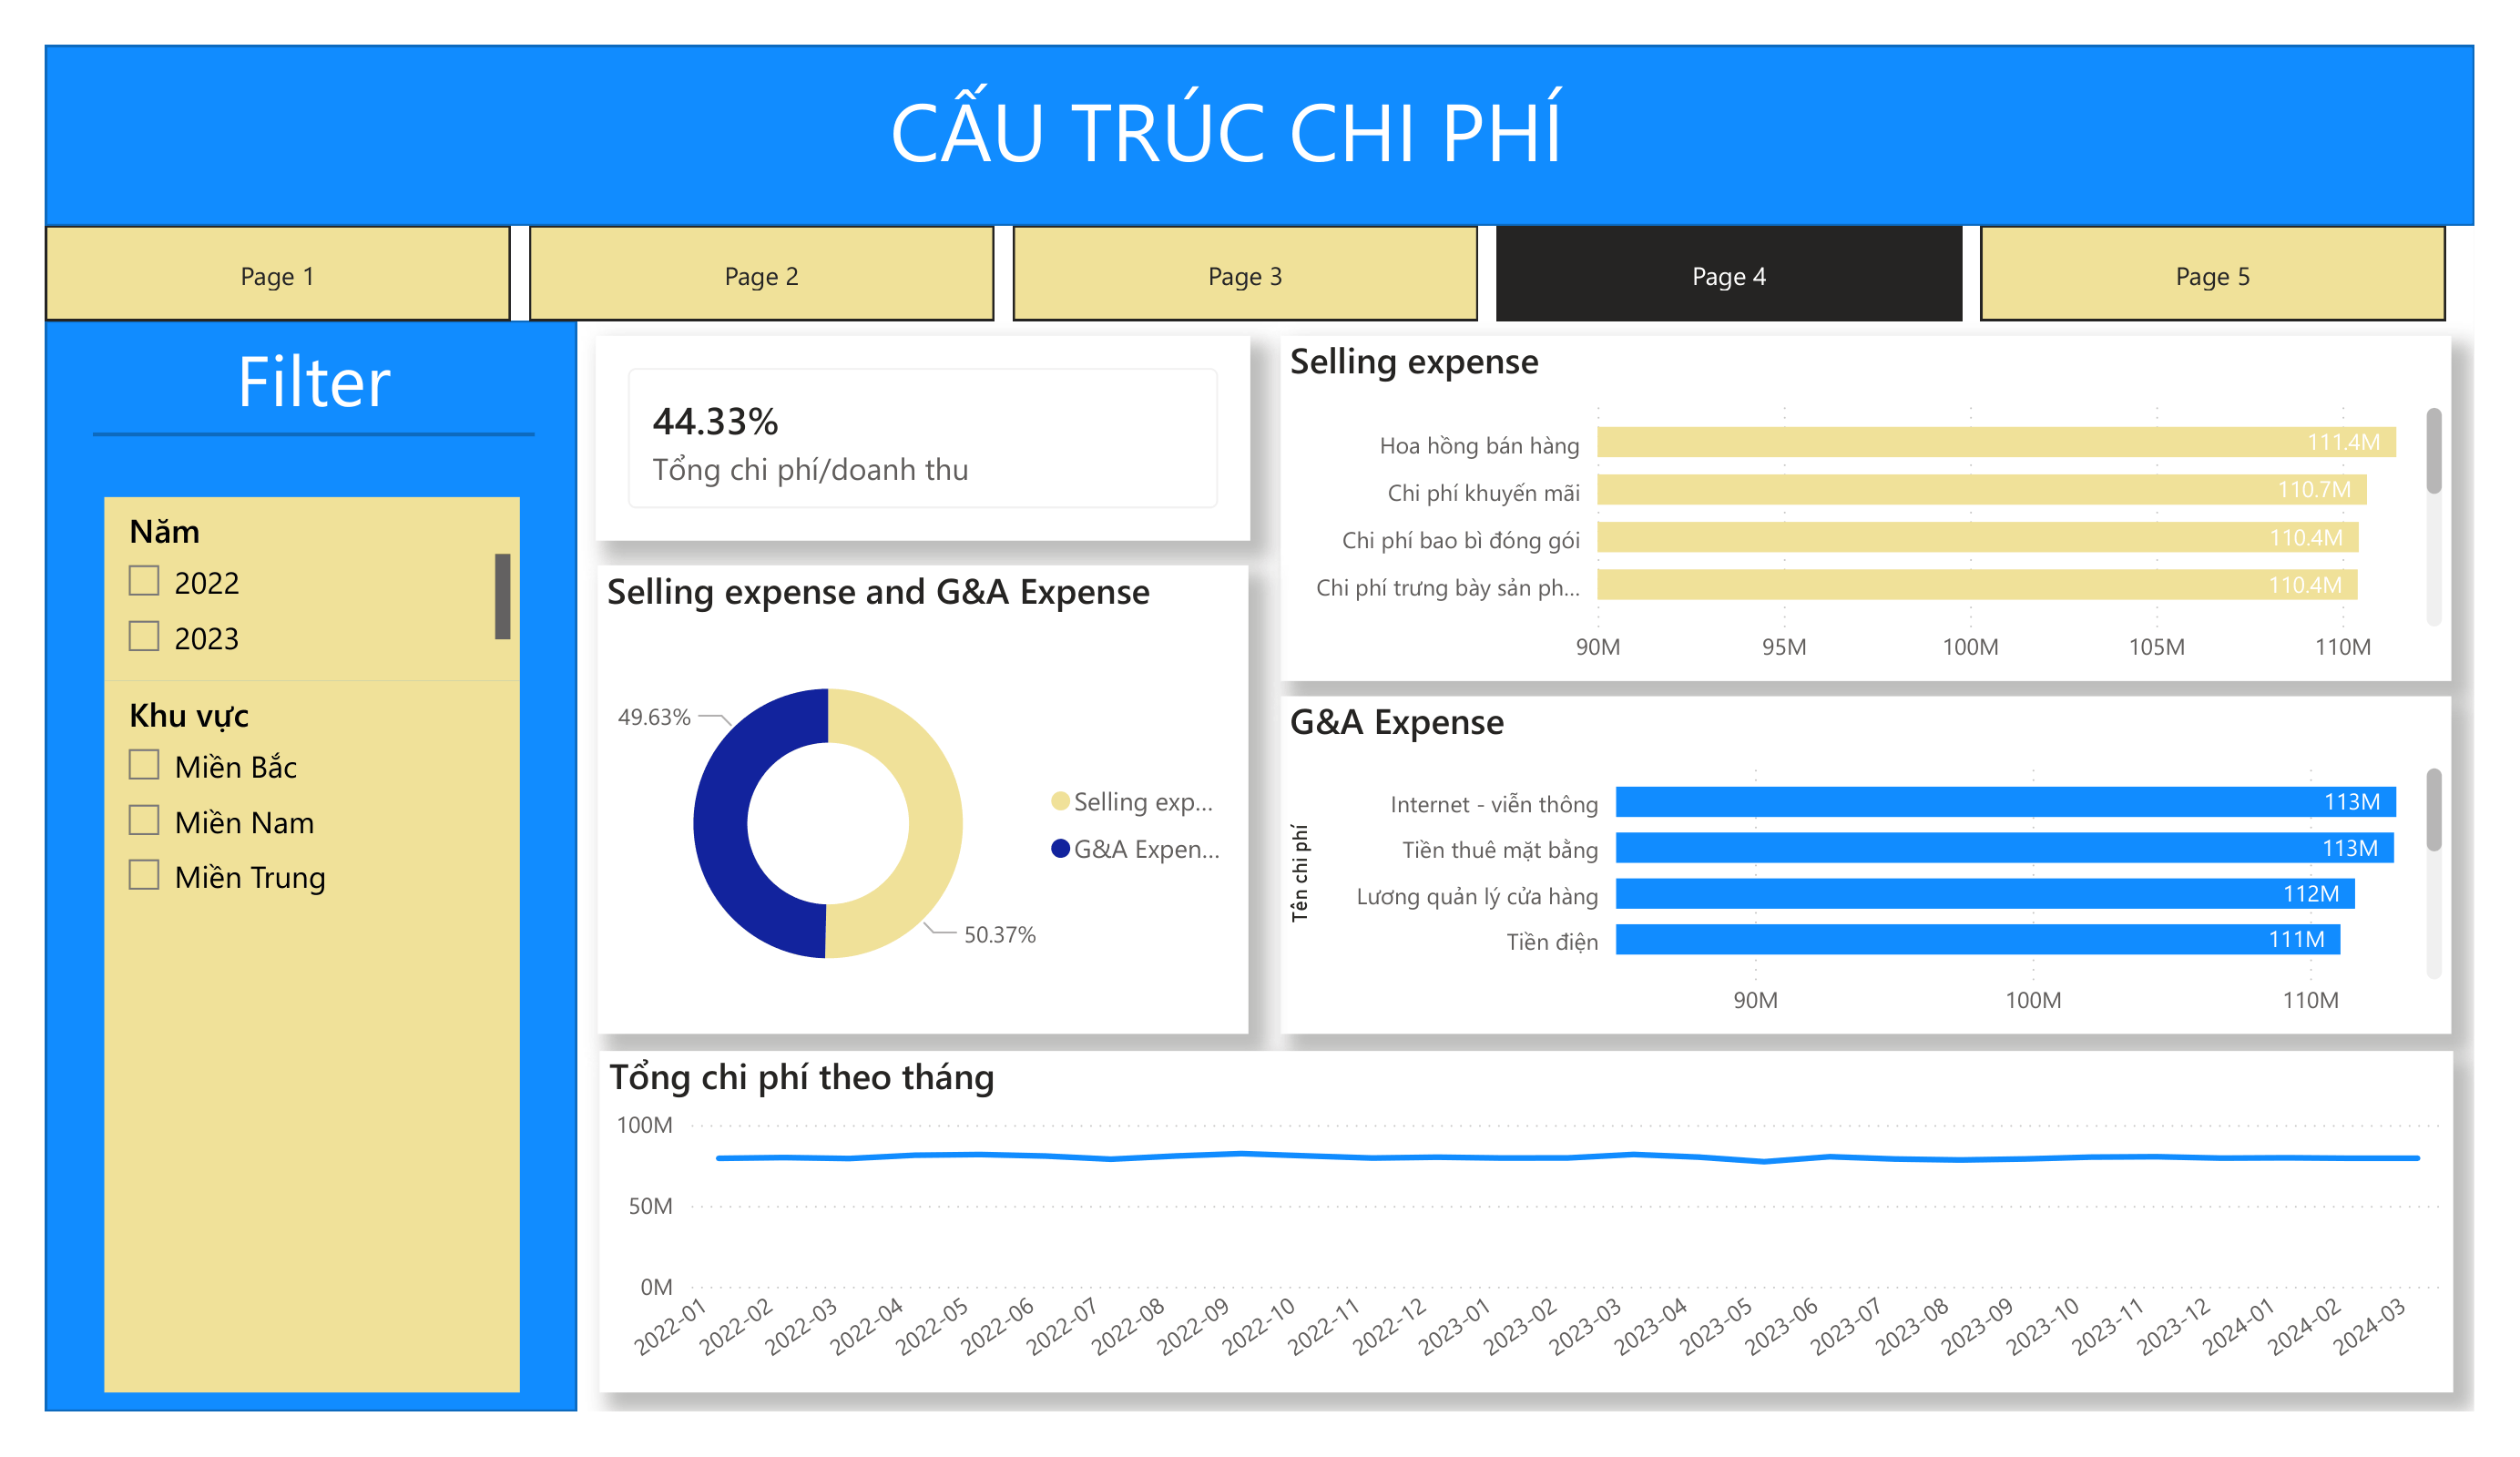

The dashboard page shown, as its layout file describes it:
{"tool":"powerbi","page":{"name":"Page 4","canvas":[1280,720],"ordinal":3},"visuals":[{"type":"shape","box":[0,145,280,575],"z":0},{"type":"textbox","box":[31.7,145,218.3,60],"z":1000},{"type":"shape","box":[25,193.3,233.3,23.3],"z":2000},{"type":"slicer","fields":{"Values":["D_Date.Năm"]},"box":[31.2,237.5,218.8,97.5],"z":3000},{"type":"slicer","fields":{"Values":["dim_store.Khu vực"]},"box":[31.2,335,218.8,375],"z":4000},{"type":"pageNavigator","box":[0,95,1268.8,50],"z":5000},{"type":"shape","box":[0,0,1280,95],"z":6000},{"type":"textbox","box":[440,10,388.8,75],"z":7000},{"type":"cardVisual","fields":{"Data":["M.Tổng chi phí/doanh thu"]},"box":[290.4,152.6,344.5,108.3],"z":8000},{"type":"clusteredBarChart","title":"Selling expense ","fields":{"Category":["dim_cost.Tên chi phí"],"Y":["M.Selling expense"]},"box":[650.6,153,617,181.6],"z":9000},{"type":"clusteredBarChart","title":"G&A Expense","fields":{"Category":["dim_cost.Tên chi phí"],"Y":["M.G&A Expense"]},"box":[650.6,343.3,617,177.9],"z":10000},{"type":"donutChart","fields":{"Y":["M.Selling expense","M.G&A Expense"]},"box":[291.1,273.7,343.3,247.5],"z":11000},{"type":"lineChart","title":"Tổng chi phí theo tháng","fields":{"Category":["D_Date.Tháng"],"Y":["M.Total operating expenditure"]},"box":[292.3,529.9,976.5,180.4],"z":12000}]}

Visuals, with their boxes on the page's 1280x720 design canvas (x1, y1, x2, y2). These are canvas units, not pixel positions in the 2520x1457 screenshot, which may show the page scaled, cropped or inside an application window:
shape: <box>0,145,280,720</box>
textbox: <box>32,145,250,205</box>
shape: <box>25,193,258,217</box>
slicer - D_Date.Năm: <box>31,238,250,335</box>
slicer - dim_store.Khu vực: <box>31,335,250,710</box>
pageNavigator: <box>0,95,1269,145</box>
shape: <box>0,0,1280,95</box>
textbox: <box>440,10,829,85</box>
cardVisual - M.Tổng chi phí/doanh thu: <box>290,153,635,261</box>
"Selling expense " clusteredBarChart: <box>651,153,1268,335</box>
"G&A Expense" clusteredBarChart: <box>651,343,1268,521</box>
donutChart - M.Selling expense x M.G&A Expense: <box>291,274,634,521</box>
"Tổng chi phí theo tháng" lineChart: <box>292,530,1269,710</box>
